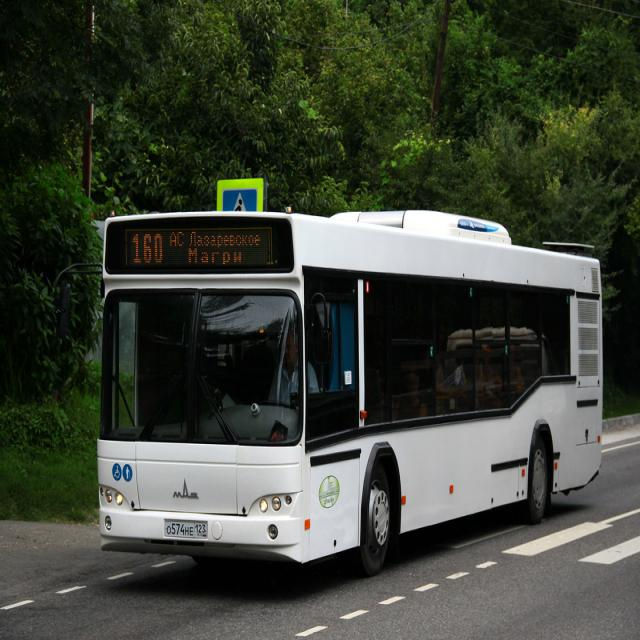number-of-bus: (133, 232, 164, 267)
